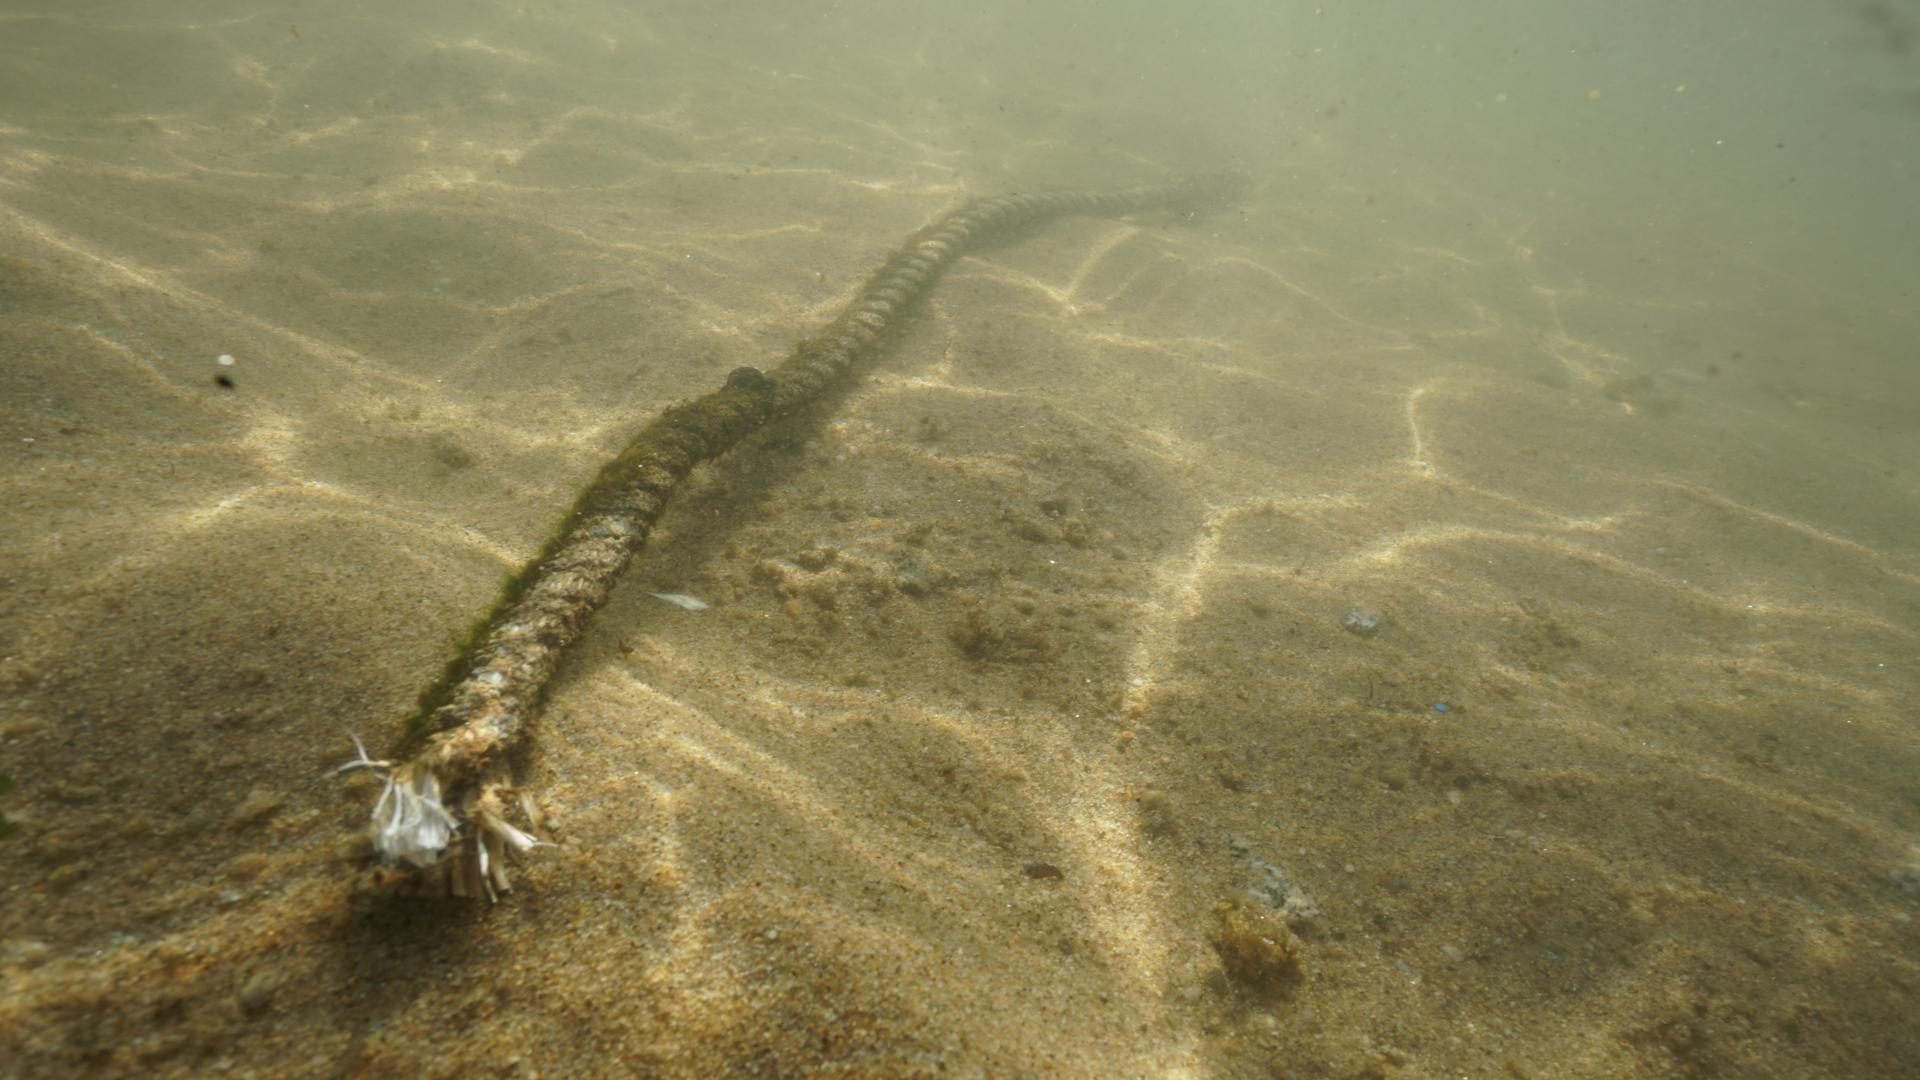rope: (405, 149, 1251, 767)
